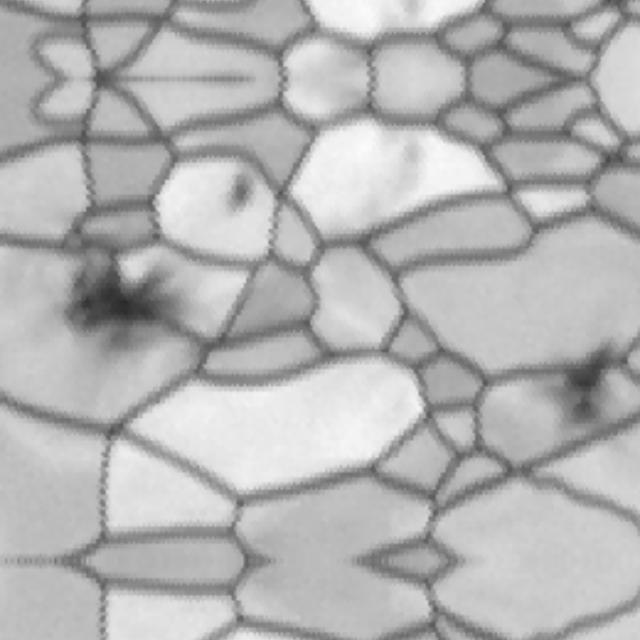good_void: (47, 235, 197, 364), (534, 339, 635, 442), (359, 149, 430, 221), (225, 171, 263, 223)
